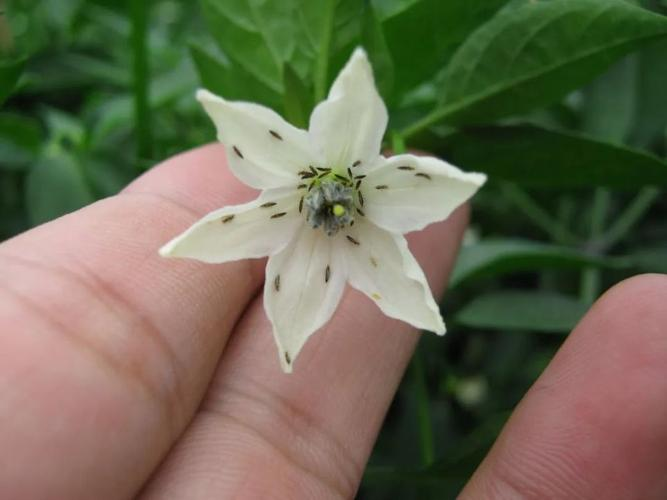Phlaeothripidae: (297, 168, 318, 193), (215, 210, 238, 227), (345, 231, 363, 249), (396, 160, 418, 174), (232, 142, 245, 162), (265, 210, 288, 221), (267, 133, 289, 143), (373, 182, 393, 193), (416, 170, 434, 182), (317, 167, 332, 181), (323, 262, 332, 284), (273, 272, 280, 296)
